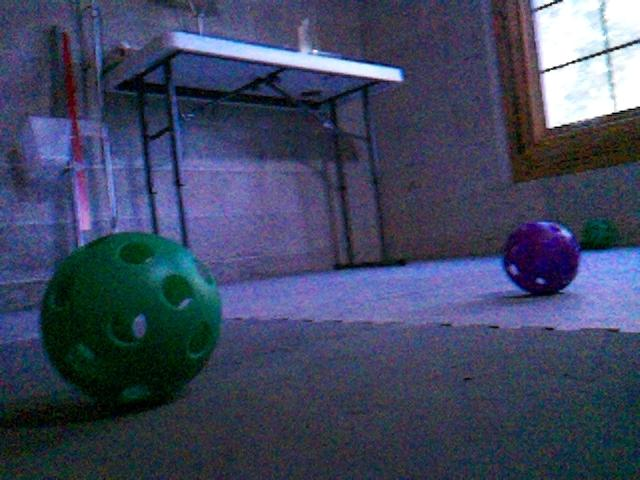Green: (34, 230, 224, 411), (580, 218, 619, 249)
Purple: (499, 219, 582, 296)
